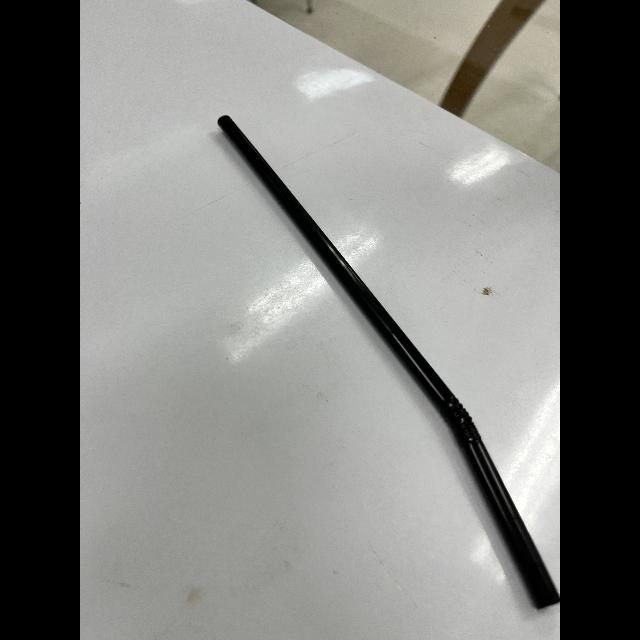straw: (216, 106, 560, 614)
